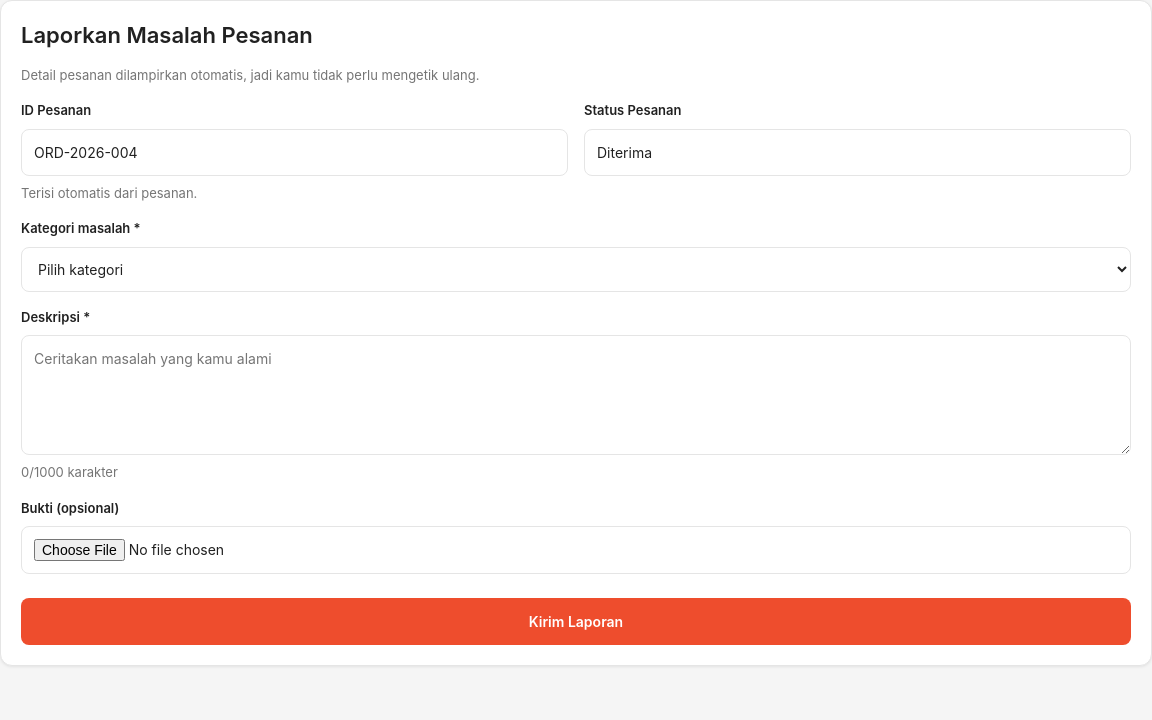
Test: ReportForm › AC-024/029: shows per-field errors, 1000-char limit and 5MB evidence limit
This screenshot has width=1152, height=720.
Later steps or results of the test are not shown.
Click the button "Kirim Laporan". click: (576,622)
box: [21, 598, 1131, 645]
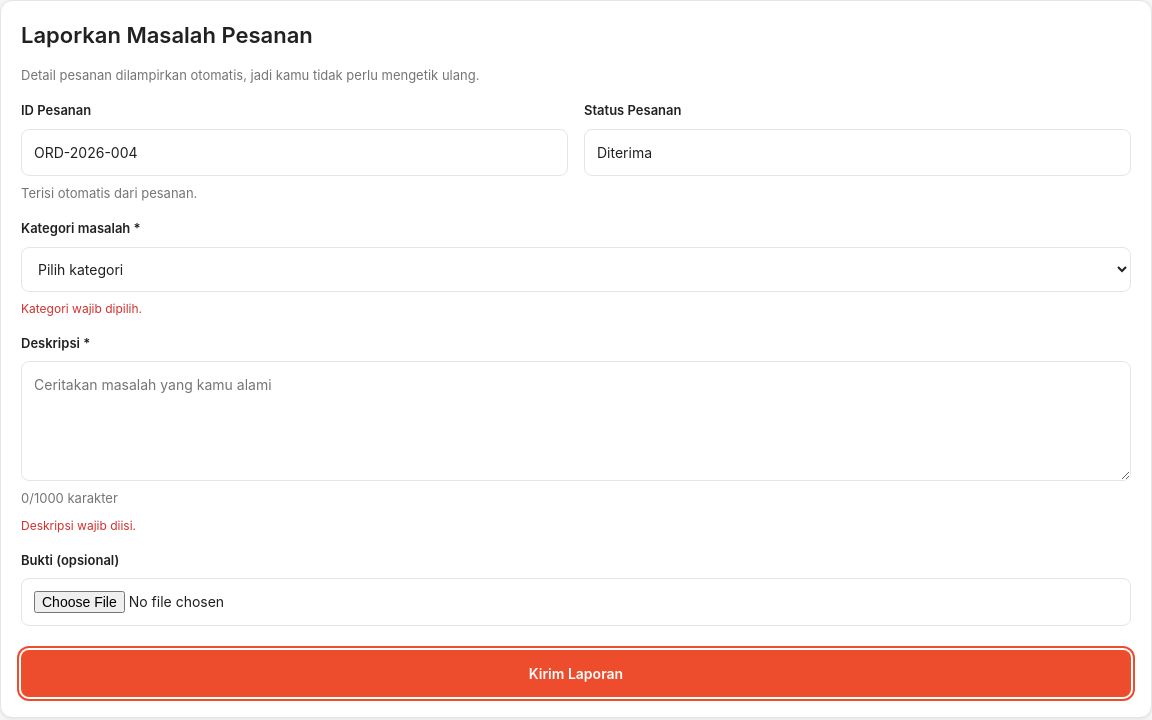
Result: the text "Kategori wajib dipilih." is shown at [21, 301, 142, 316]
Result: the text "Deskripsi wajib diisi." is shown at [21, 518, 136, 533]
